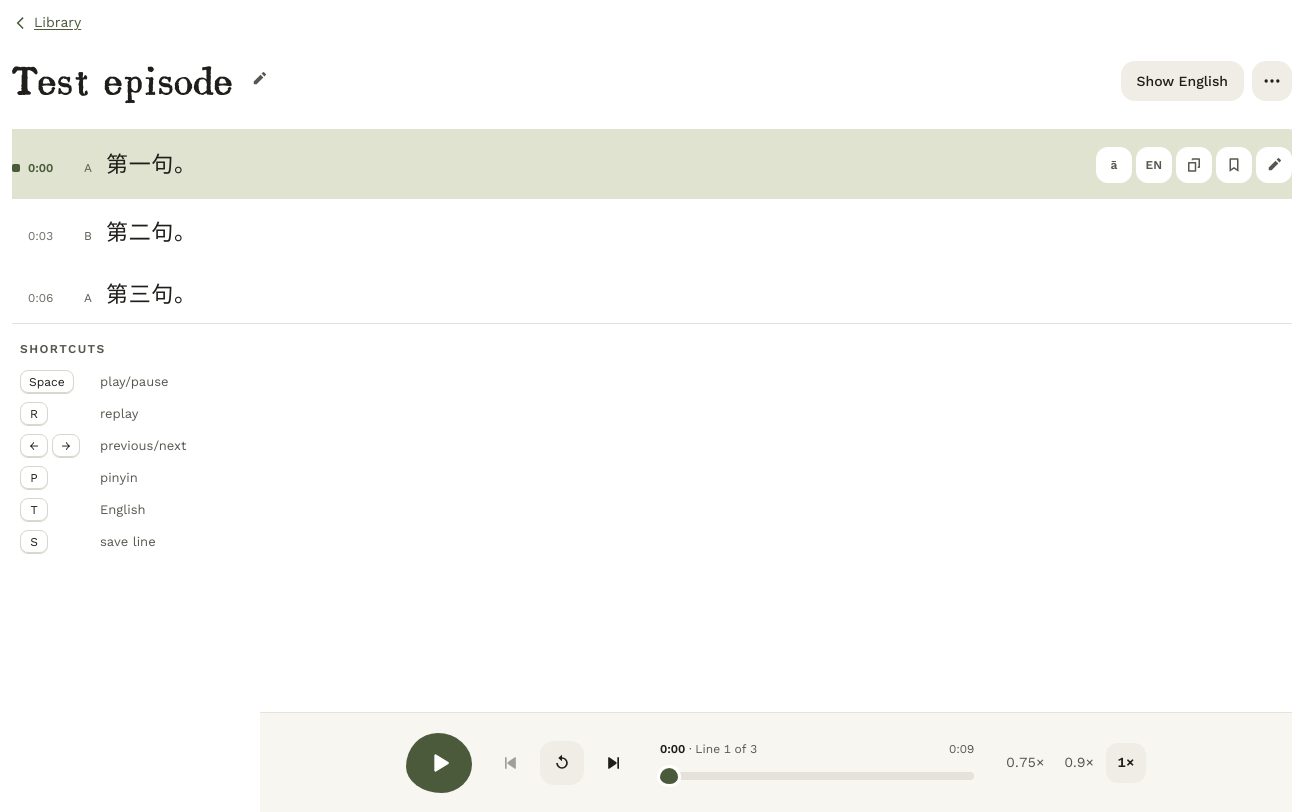
Scenario: Renaming a local episode › shows a safe message when the worker refuses
The width and height of the screenshot is (1304, 812).
Click the button named "Rename episode".
click(258, 79)  # box x1=240 y1=61 x2=276 y2=97
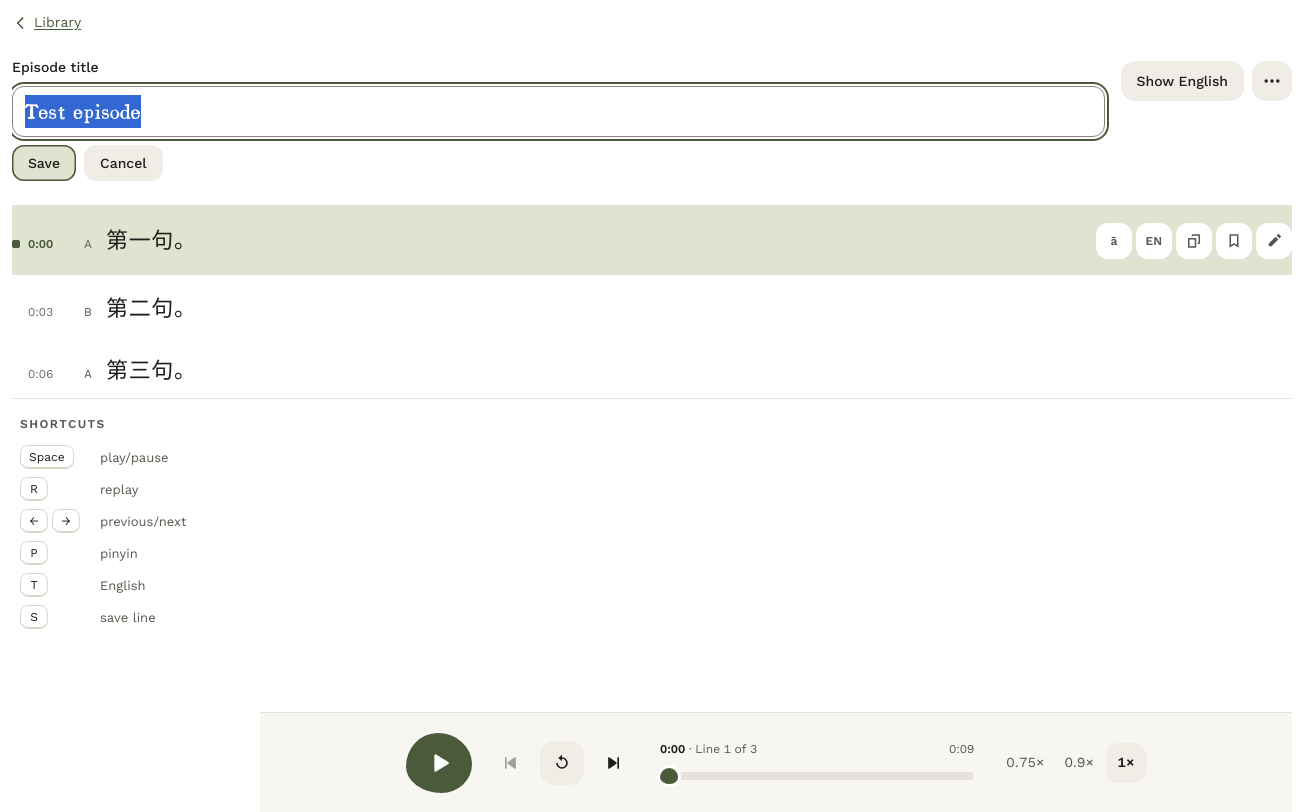
Type "!" into the field labelled "Episode title".
click(558, 112); type("!")  # box x1=12 y1=86 x2=1104 y2=137
Then press Enter
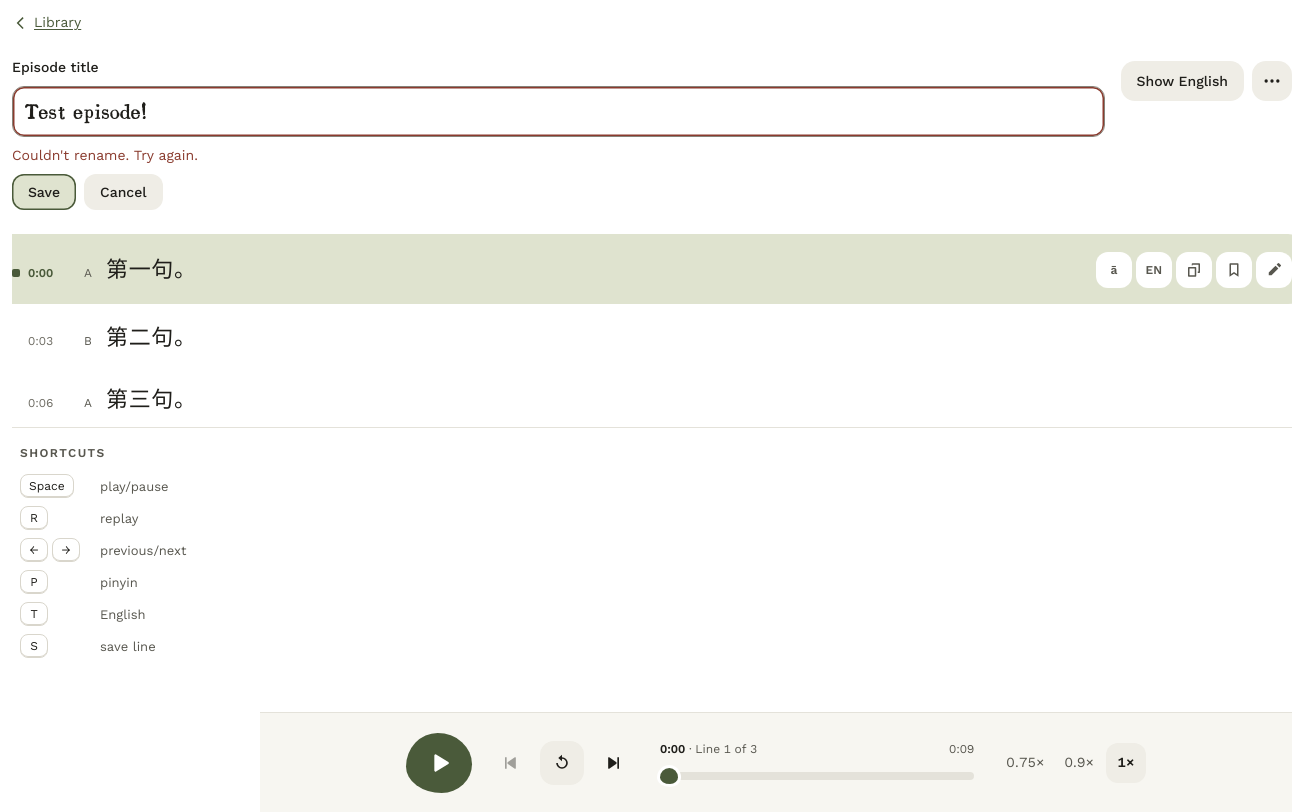
Expected: the message reads "Couldn't rename. Try again.", x1=12 y1=147 x2=198 y2=163
